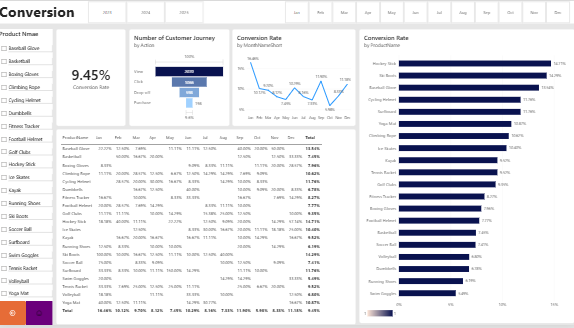

What the dashboard file says about the page in this screenshot:
{"tool":"powerbi","page":{"name":"Conversion","canvas":[1920,1080],"ordinal":1},"visuals":[{"type":"textbox","box":[0,0,1920,75.1],"z":0},{"type":"slicer","title":"Product Nmae","fields":{"Values":["products.ProductName"]},"box":[0,93.8,178.8,907.5],"z":1000},{"type":"card","fields":{"Values":["calculations.Conversion Rate"]},"box":[190,93.3,233.3,324.4],"z":2000},{"type":"slicer","fields":{"Values":["Calendar.MonthNameShort"]},"box":[932.5,0,987.5,75],"z":3000},{"type":"slicer","fields":{"Values":["Calendar.Year"]},"box":[275,0,422.5,75],"z":4000},{"type":"lineChart","fields":{"Y":["calculations.Conversion Rate"],"Category":["Calendar.MonthNameShort"]},"box":[776.7,93.3,413.3,324.4],"z":5000},{"type":"clusteredBarChart","fields":{"Category":["products.ProductName"],"Y":["calculations.Conversion Rate"]},"box":[1200,94.4,720,981.1],"z":6000},{"type":"pivotTable","fields":{"Rows":["products.ProductName"],"Columns":["Calendar.MonthNameShort"],"Values":["calculations.Conversion Rate"]},"box":[190,425,1000,651.7],"z":7000},{"type":"funnel","fields":{"Y":["calculations.Number of Customer Journey"],"Category":["fact_customer_journey.Action"]},"box":[432.2,93.3,335.6,324.4],"z":8000},{"type":"actionButton","title":"home","box":[90,1000,88,80],"z":9000},{"type":"actionButton","box":[0,1000,90,80],"z":10000}]}

Visuals, with their boxes in screenshot pixels (x1, y1, x2, y2), scaled from the page's 1920x1080 canvas onto the 574x328 screenshot:
textbox: <region>0, 0, 573, 23</region>
"Product Nmae" slicer: <region>0, 28, 53, 304</region>
card - calculations.Conversion Rate: <region>57, 28, 127, 127</region>
slicer - Calendar.MonthNameShort: <region>279, 0, 573, 23</region>
slicer - Calendar.Year: <region>82, 0, 209, 23</region>
lineChart - calculations.Conversion Rate x Calendar.MonthNameShort: <region>232, 28, 356, 127</region>
clusteredBarChart - products.ProductName x calculations.Conversion Rate: <region>359, 29, 573, 327</region>
pivotTable - products.ProductName x Calendar.MonthNameShort: <region>57, 129, 356, 327</region>
funnel - calculations.Number of Customer Journey x fact_customer_journey.Action: <region>129, 28, 230, 127</region>
"home" actionButton: <region>27, 304, 53, 327</region>
actionButton: <region>0, 304, 27, 327</region>
